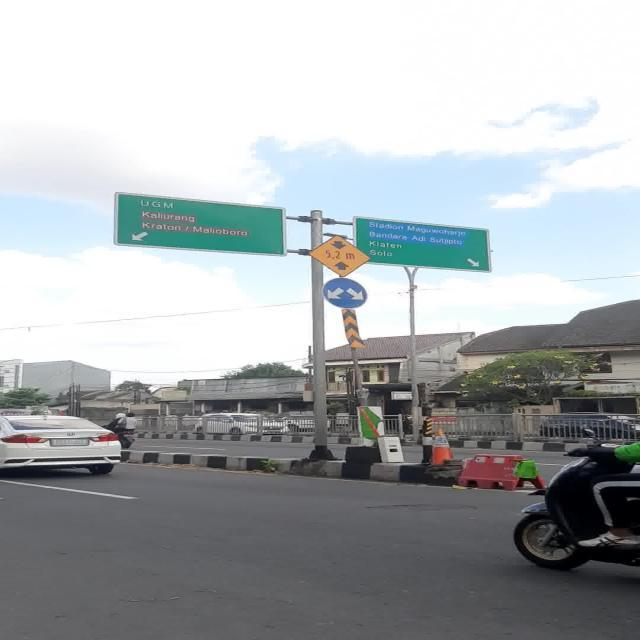Pilih Salah Satu Jalur: (322, 278, 367, 308)
